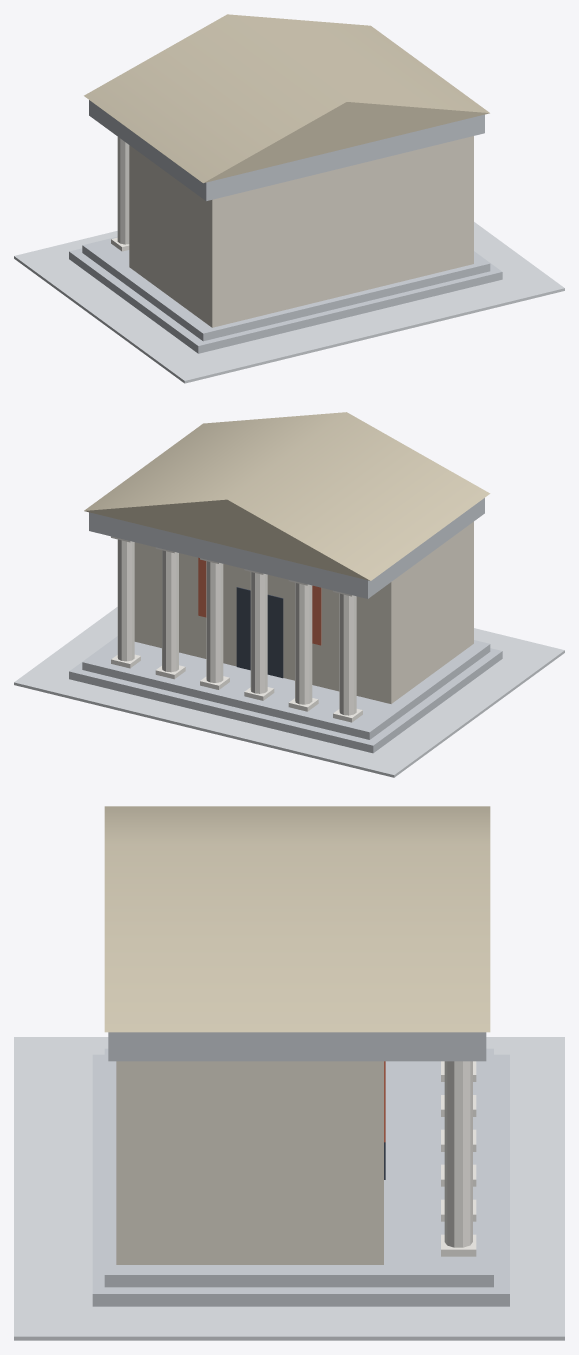
The model's file is museum.glb.
3 views of the same model, one above another, from view 1: azimuth 30°, elevation 25°; view 2: azimuth 150°, elevation 25°; view 3: azimuth 270°, elevation 25° (orthographic). The views are drawn at different scales.
Parts seen in each view (by area): view 1: Body; view 2: Body; view 3: Body.
Part boxes in pixels (x1,y1,x2,y2): Body: (14,14,564,383); Body: (14,412,564,777); Body: (14,806,564,1340).
Size of the model in its own units: 18 by 9.72 by 14.
